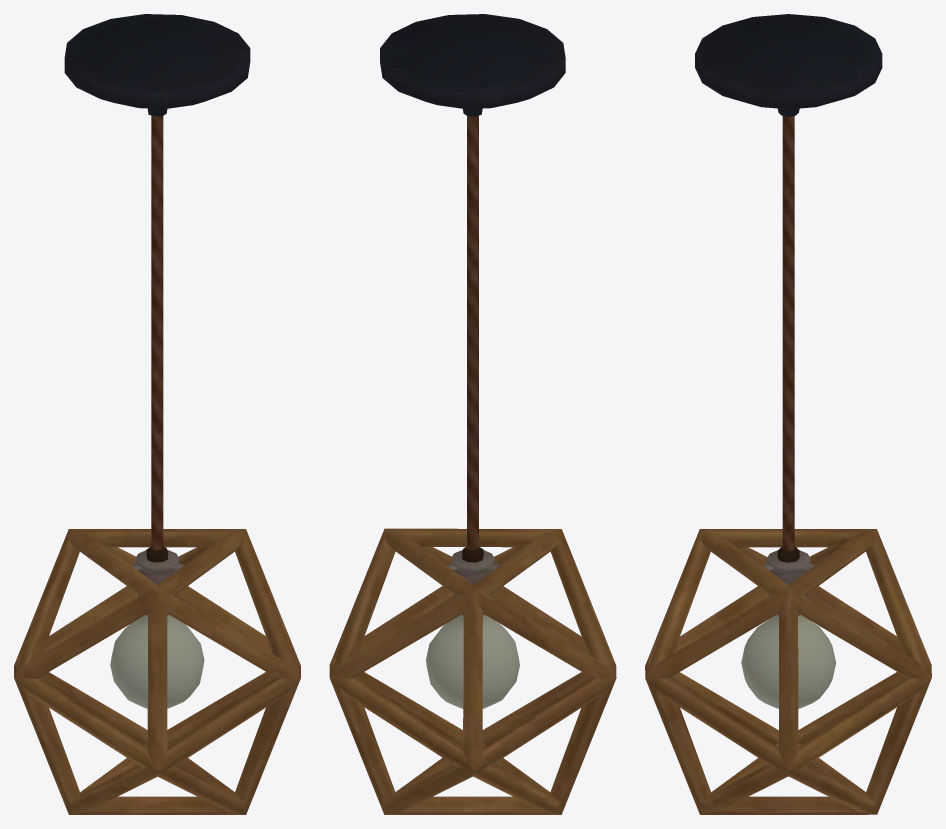
3 views of the same model, side by side, from view 1: azimuth 30°, elevation 25°; view 2: azimuth 150°, elevation 25°; view 3: azimuth 270°, elevation 25° (orthographic).
Bounding box in the file's own units: 5.96 × 14.71 × 5.17.
1 material, 1 textured.
